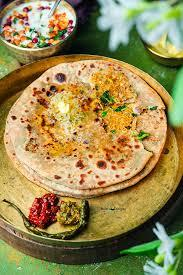paratha: (17, 66, 159, 185)
yogurt: (5, 4, 69, 48)
